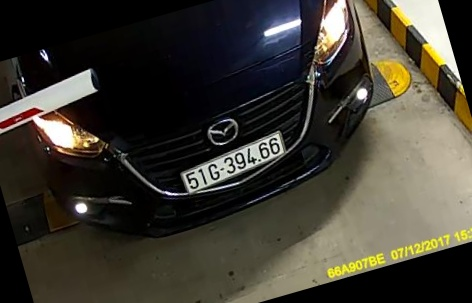plate: (178, 128, 296, 198)
